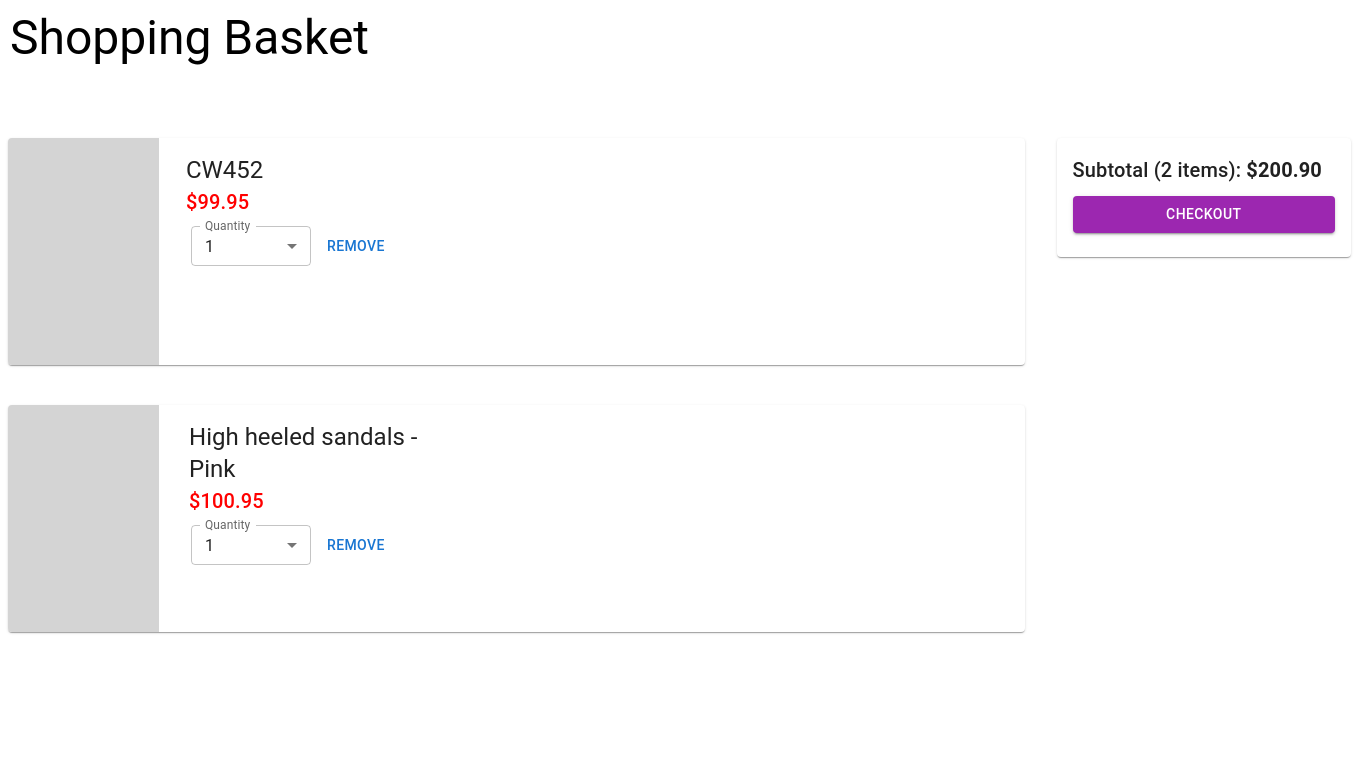
Test case: Cart › Should remove an item from the cart list
Expected: the element named "cart-subtotal" shows "Subtotal (2 items): $200.9", [1072,154,1335,186]
Click the button with aria-label "remove-button-1": (356, 246) [319,228,393,264]
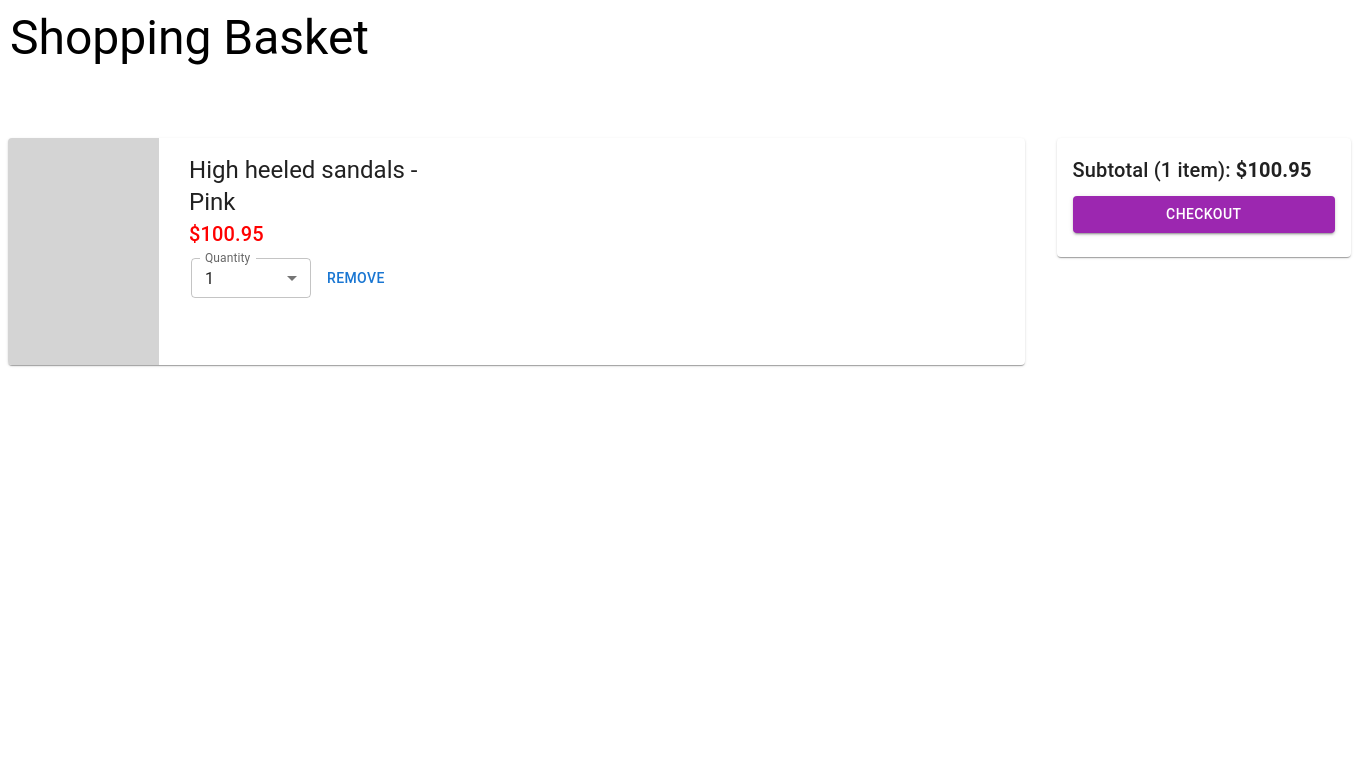
Result: the element named "cart-subtotal" reads "Subtotal (1 item): $100.95" at [1072,154,1335,186]
